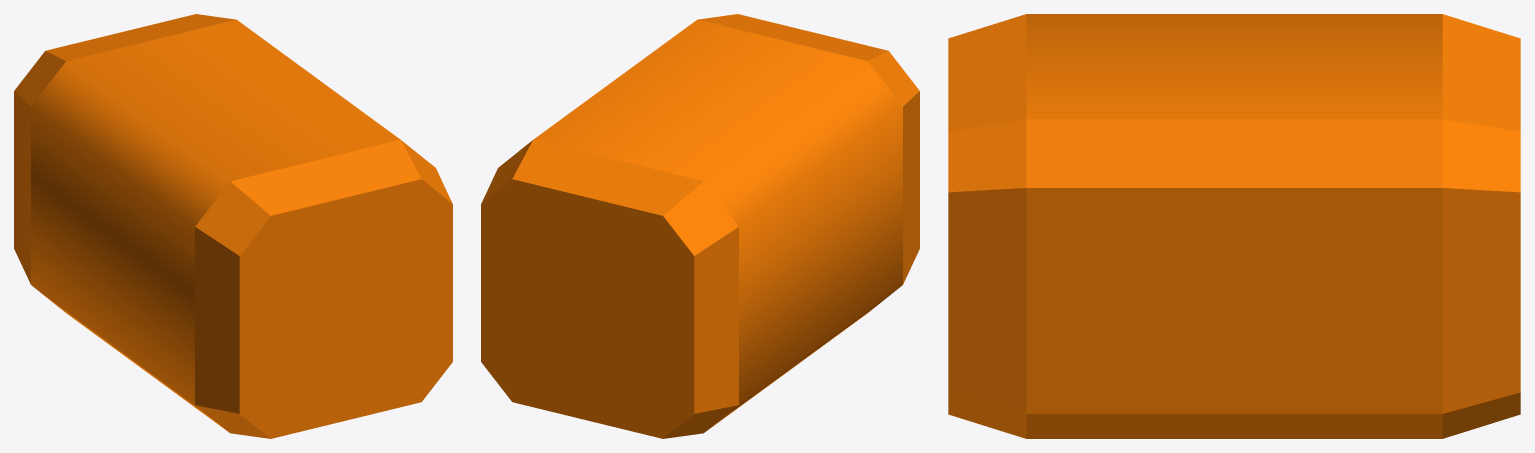
Rendered from body.obj.
3 renders of one model, left to right at view 1: azimuth 30°, elevation 25°; view 2: azimuth 150°, elevation 25°; view 3: azimuth 270°, elevation 25°, orthographic. The views are drawn at different scales.
Parts seen in each view (by area): view 1: shakerPepper.003; view 2: shakerPepper.003; view 3: shakerPepper.003.
Boxes of the visible parts, x1=… form: shakerPepper.003: x1=14, y1=14, x2=452, y2=438; shakerPepper.003: x1=481, y1=14, x2=919, y2=438; shakerPepper.003: x1=948, y1=14, x2=1520, y2=438.
Bounding box in the file's own units: 0.0475 × 0.0475 × 0.077.
